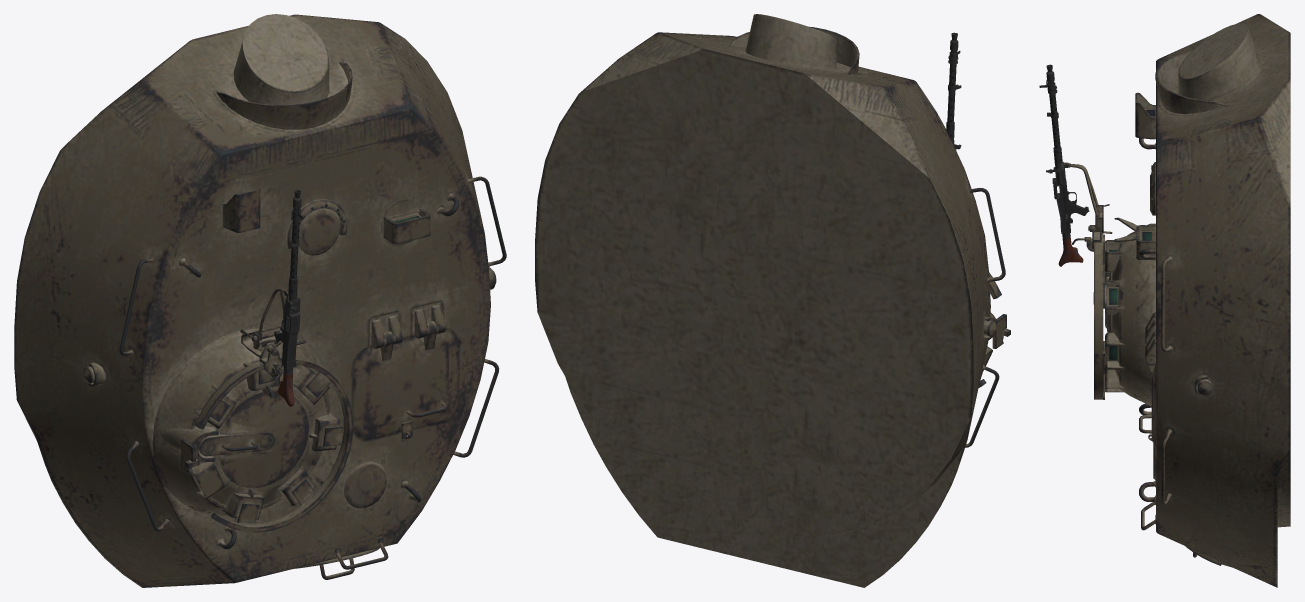
The model's file is Turret_02.glb.
3 views of the same model, side by side, from view 1: azimuth 30°, elevation 25°; view 2: azimuth 150°, elevation 25°; view 3: azimuth 270°, elevation 25° (orthographic). The views are drawn at different scales.
Visible parts, largest first — view 1: set_0_group_0; view 2: set_0_group_0; view 3: set_0_group_0.
Part boxes in pixels (x1=…): set_0_group_0: x1=14, y1=14, x2=506, y2=587; set_0_group_0: x1=535, y1=14, x2=1010, y2=587; set_0_group_0: x1=1039, y1=14, x2=1290, y2=587.
Bounding box in the file's own units: 2.66 × 3.1 × 1.38.
1 material, 1 textured.
